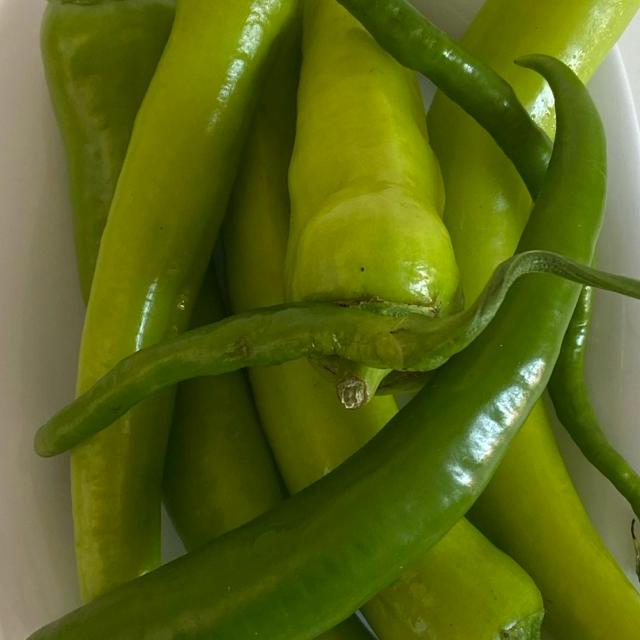chili_pepper: (0, 40, 615, 640), (15, 0, 365, 640)
